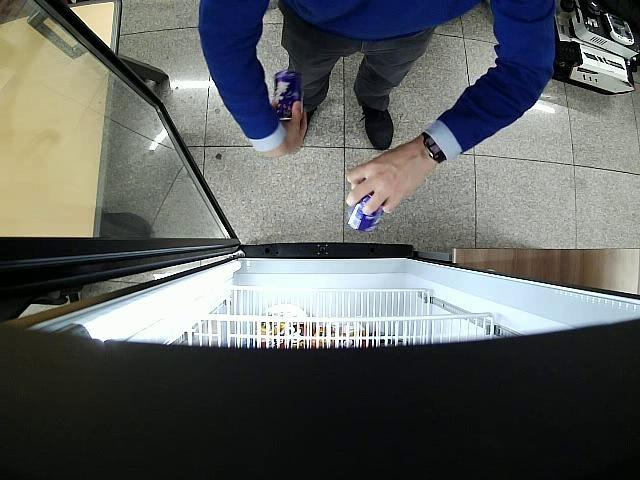14_welchsGrape: (346, 194, 384, 232), (274, 70, 302, 120)
